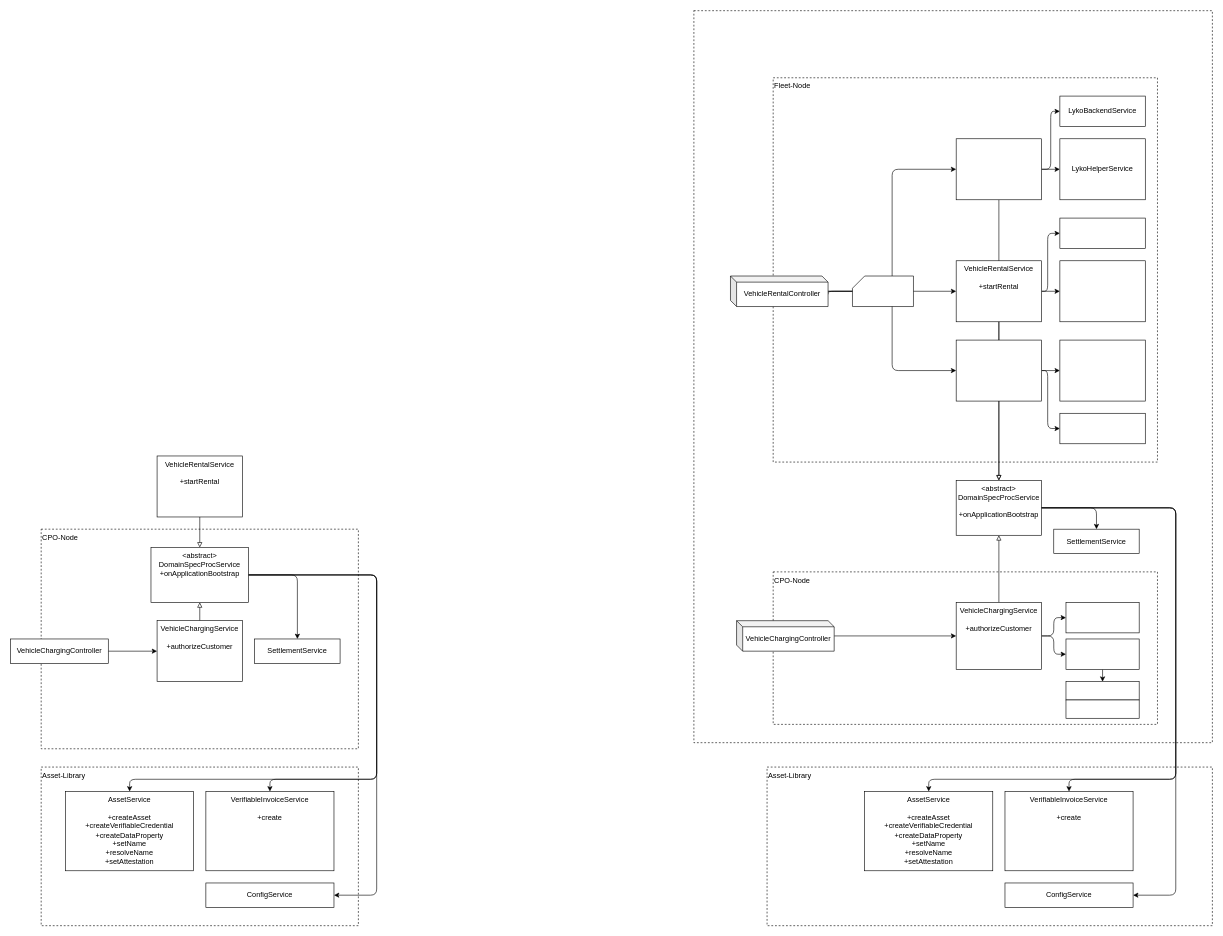
Image size: 1223x936. Some labels were removed from this diagram. The shapes that lost their labels are listed below. From the top down, each one's box as (x1, y1, x2, y2) in pixels, then its label:
(956, 138, 1042, 200): LykoRentalService +startRental
(1059, 217, 1145, 249): FleetBackendService
(852, 275, 913, 307): IRentalService
(1059, 260, 1145, 322): RentalHelperService
(693, 10, 1212, 743): Company Node
(956, 339, 1042, 401): TOMPRentalService +startRental
(1059, 339, 1145, 401): TOMPHelperService
(1059, 413, 1145, 444): TOMPBackendService
(1065, 602, 1139, 633): CPOBackendService
(1065, 638, 1139, 669): VPRequestService
(1065, 681, 1139, 700): eMSPBackendService
(1065, 699, 1139, 718): SSIWalletService
